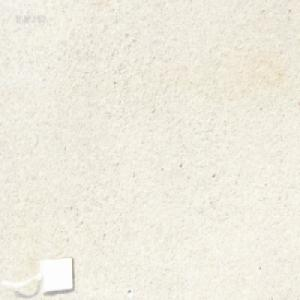LuggageTag: (0, 255, 74, 294)
